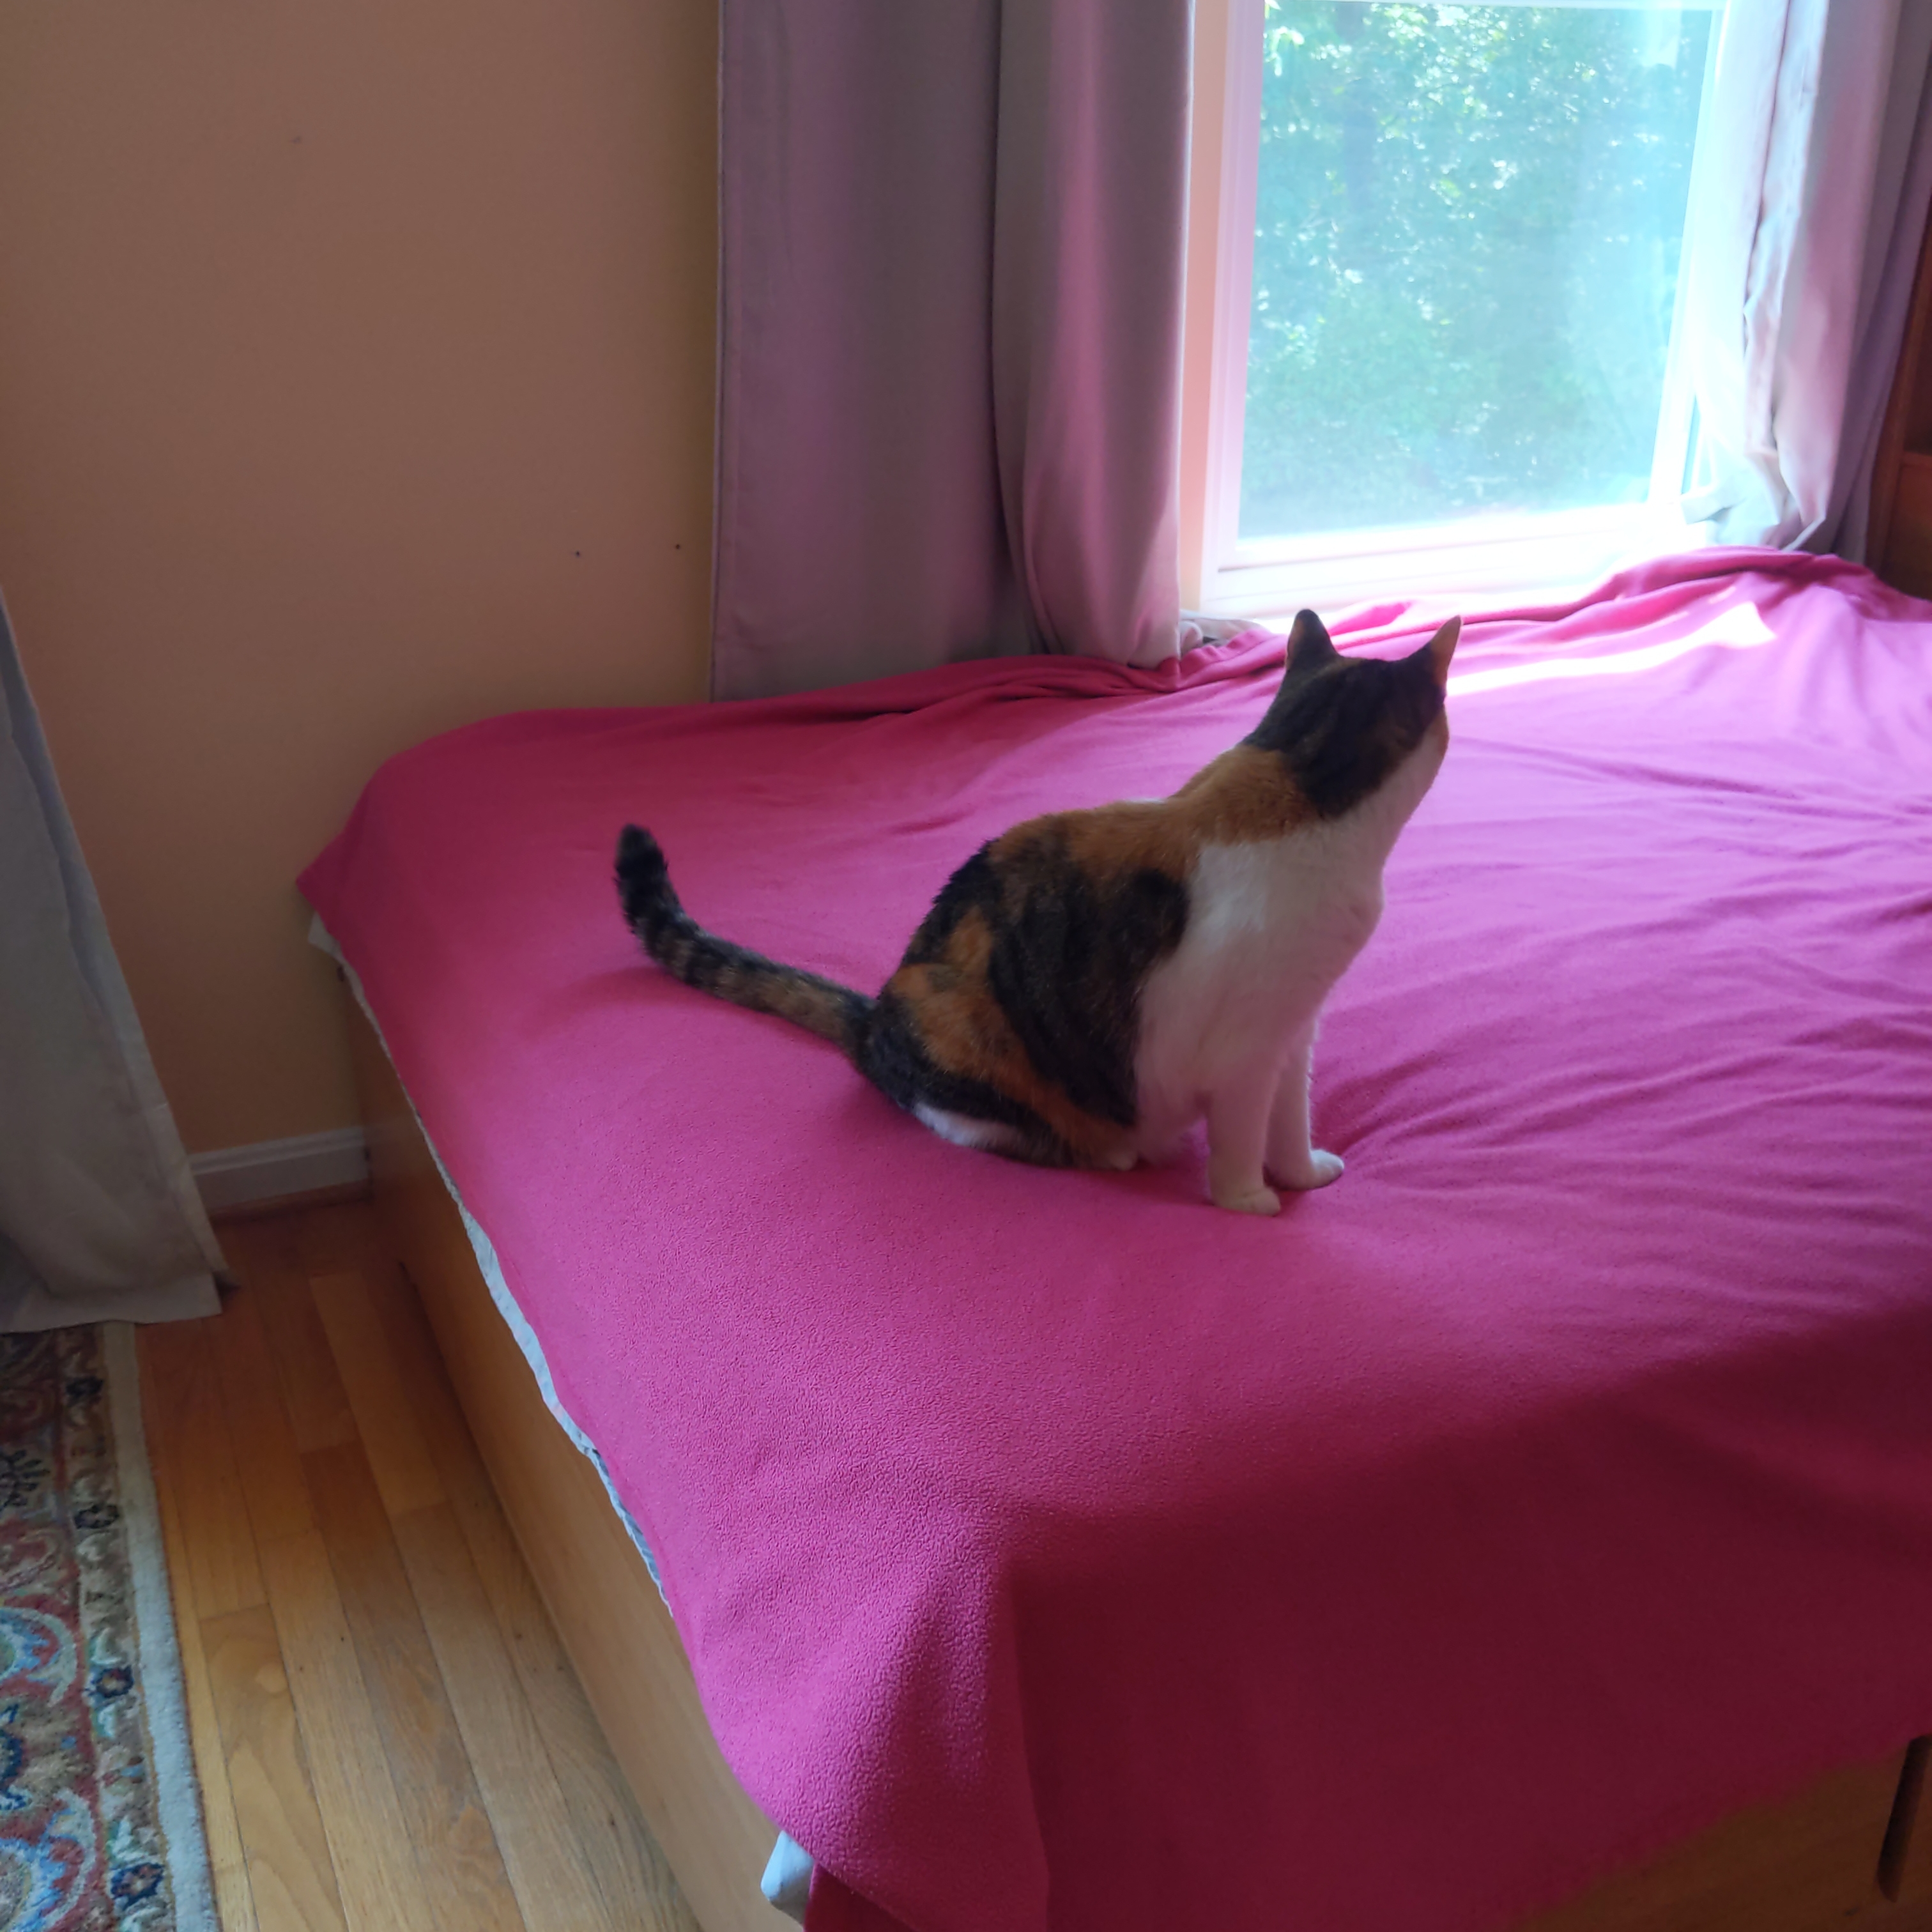Calico: (617, 607, 1463, 1219)
